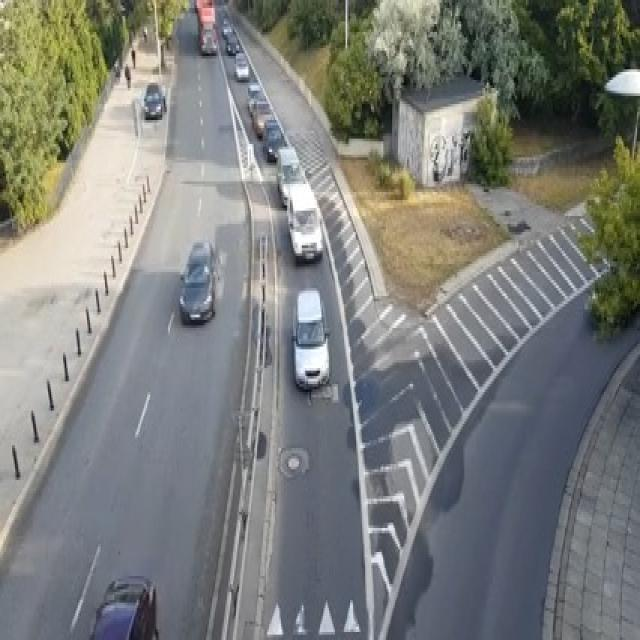car: (87, 574, 158, 638), (290, 288, 330, 389), (179, 240, 216, 323), (285, 184, 323, 261), (275, 144, 306, 205), (262, 117, 286, 160), (141, 83, 165, 117), (251, 99, 273, 136), (246, 82, 266, 114), (198, 24, 216, 53), (234, 51, 250, 80), (225, 32, 239, 53), (221, 16, 233, 37)
truck: (196, 0, 217, 56)
